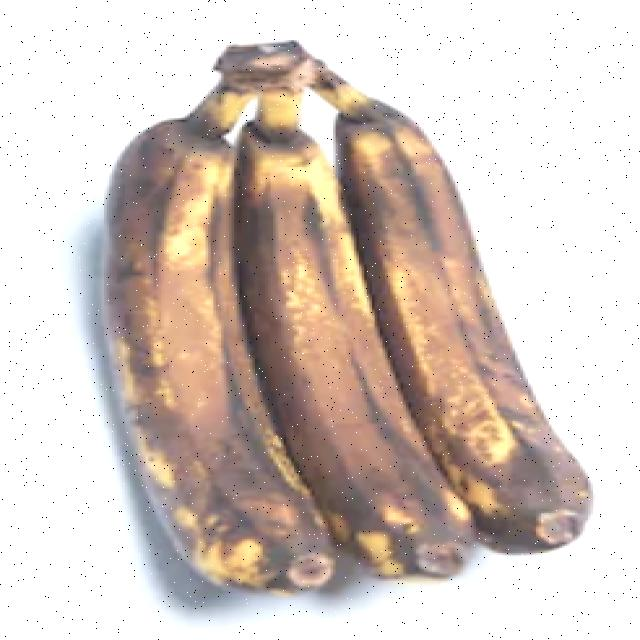rotten banana: (31, 52, 640, 604)
